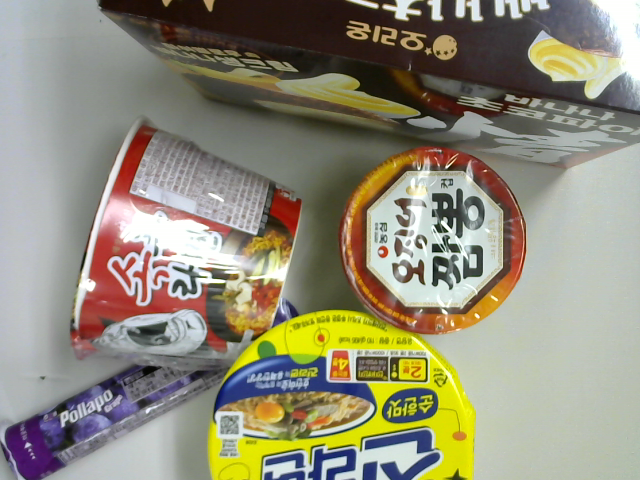Choco_Pie_Banana: (91, 1, 640, 172)
Hejangchan: (65, 109, 305, 374)
Jinlamyeon_Mild_Taste_Large_Cup: (204, 310, 486, 480)
Polapo_Grape: (1, 291, 308, 479)
Treviraim_500ml: (332, 139, 531, 336)
